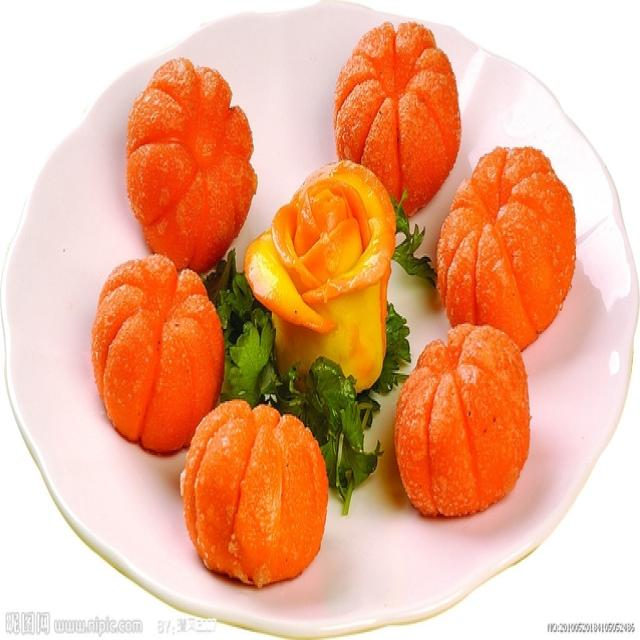炸货点心: (27, 18, 620, 624)
蛋糕甜品: (27, 18, 620, 624)
